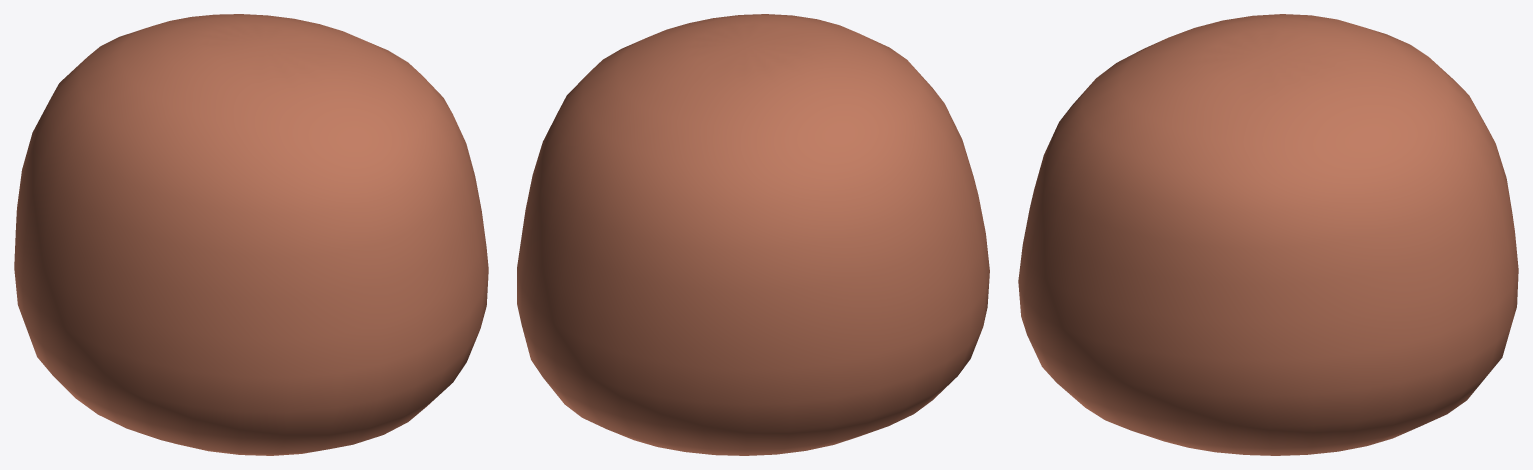
File: Shrub_Top_B_01.fbx
3 views of the same model, side by side, from view 1: azimuth 30°, elevation 25°; view 2: azimuth 150°, elevation 25°; view 3: azimuth 270°, elevation 25° (orthographic).
Parts seen in each view (by area): view 1: Shrub_Top_B_01_LOD0; view 2: Shrub_Top_B_01_LOD0; view 3: Shrub_Top_B_01_LOD0.
Boxes of the visible parts, x1,y1,x2,y2 form: Shrub_Top_B_01_LOD0: (14,14,488,455); Shrub_Top_B_01_LOD0: (517,14,989,455); Shrub_Top_B_01_LOD0: (1018,14,1518,455).
Size of what is drawn, in the model's own units: 461 by 396 by 492.
